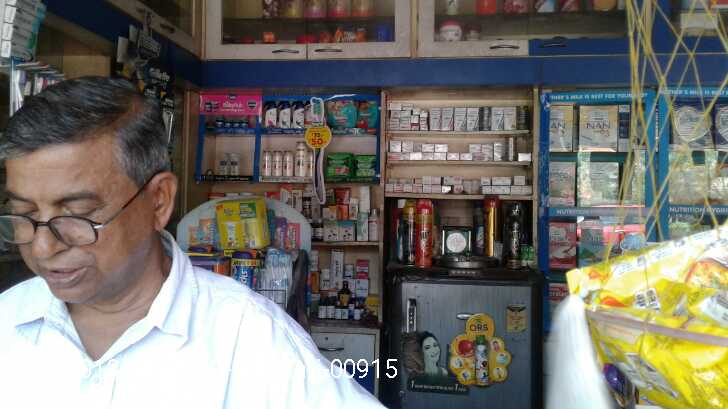vicks: (216, 115, 249, 129)
